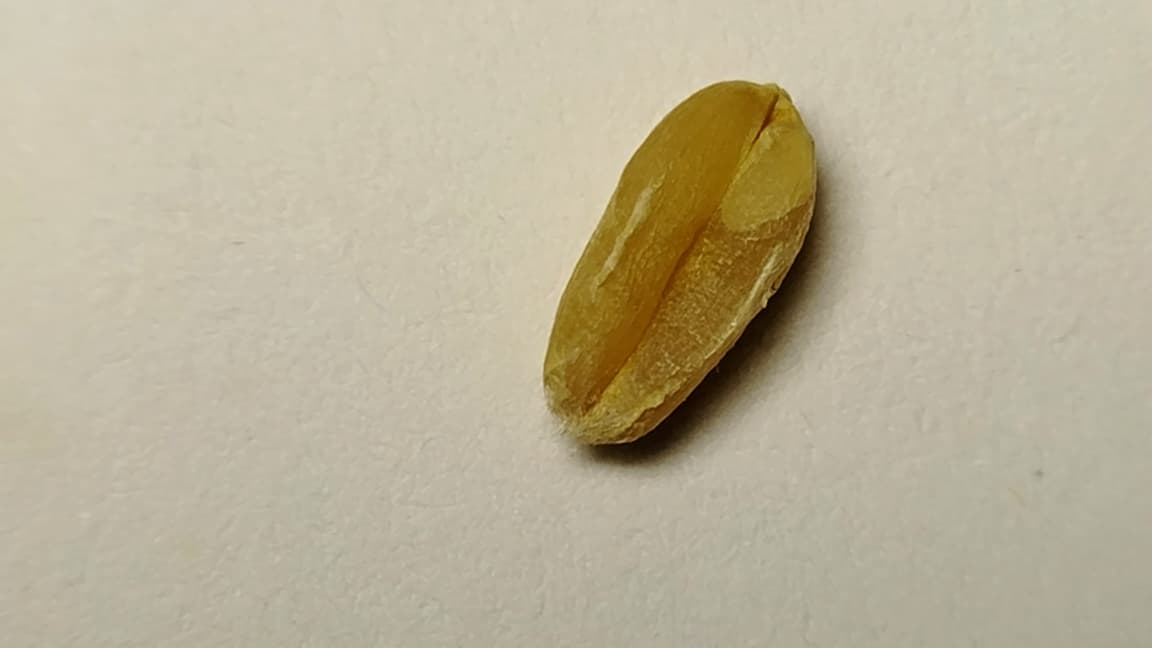healthy: (544, 81, 816, 443)
